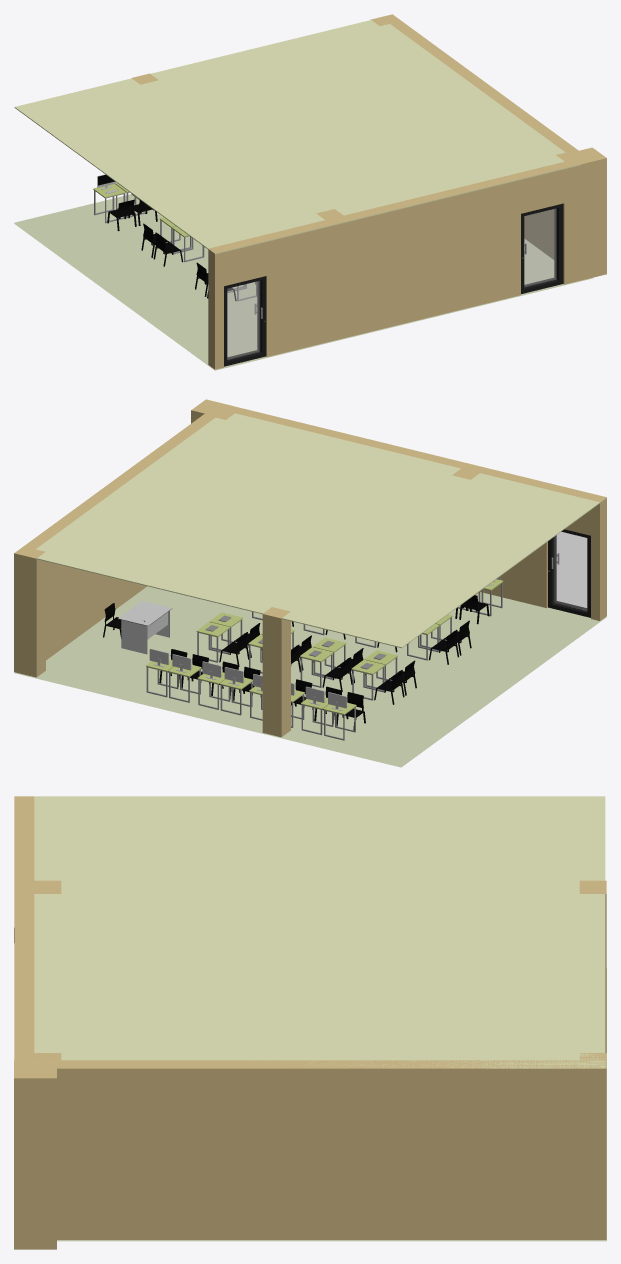
Rendered from CCIS_COD_v1.glb.
3 renders of one model, top to bottom at view 1: azimuth 30°, elevation 25°; view 2: azimuth 150°, elevation 25°; view 3: azimuth 270°, elevation 25°, orthographic. The views are drawn at different scales.
Visible parts, largest first — view 1: LabRm2 Floor.011; view 2: LabRm2 Floor.011; view 3: LabRm2 Floor.011.
Part boxes in pixels (left/top/right/bottom): LabRm2 Floor.011: left=14, top=14, right=606, bottom=370; LabRm2 Floor.011: left=14, top=399, right=606, bottom=767; LabRm2 Floor.011: left=14, top=796, right=606, bottom=1249.
Bounding box in the file's own units: 4.66 × 1.33 × 4.14.
